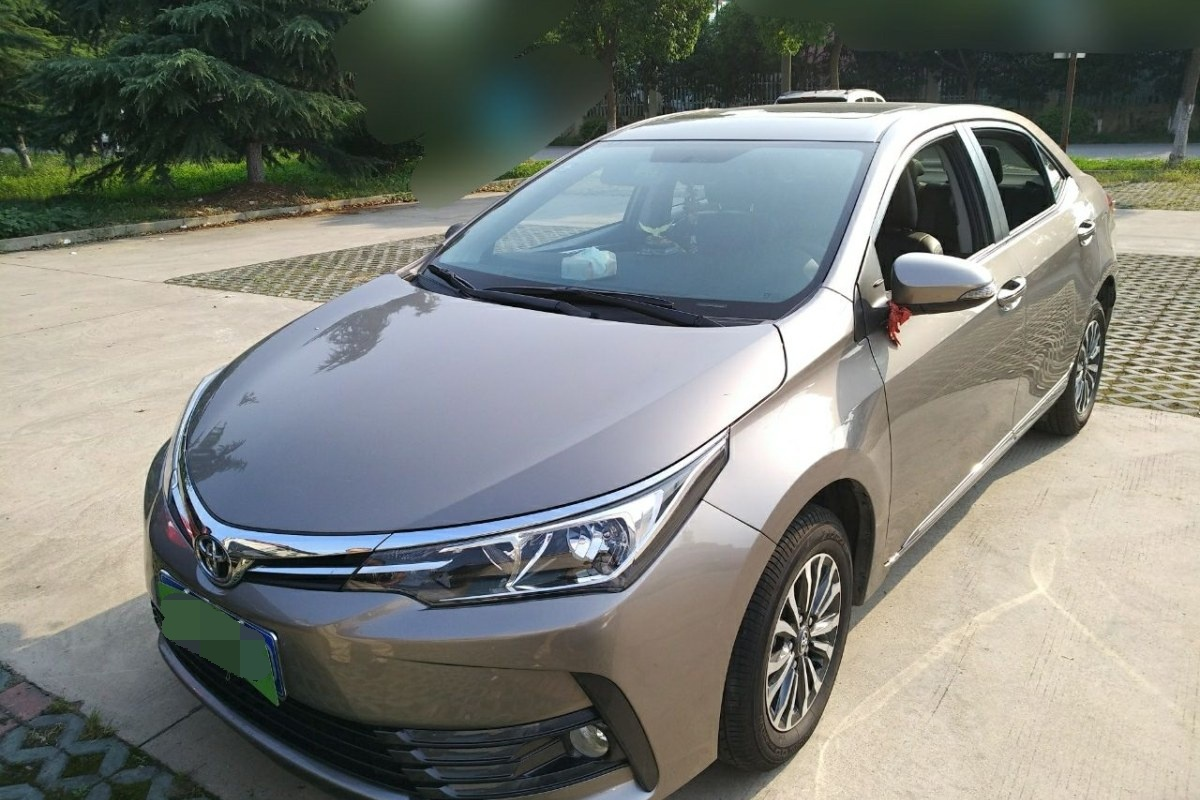family sedan: (137, 89, 1123, 768)
